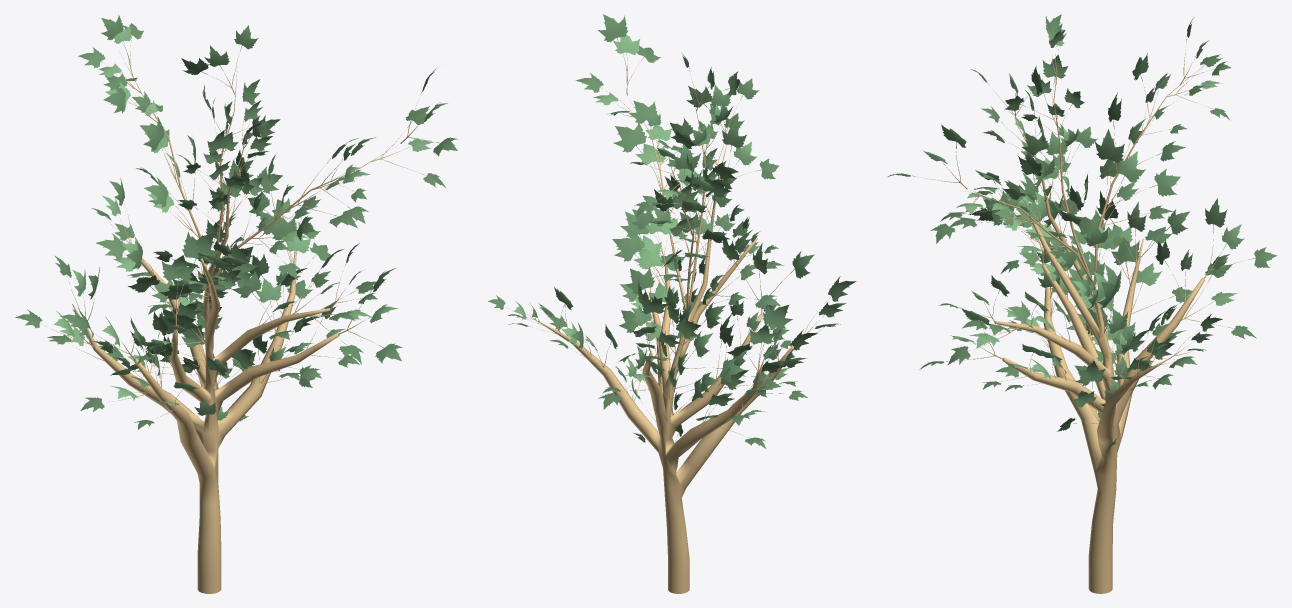
Rendered from tree2.fbx.
3 views of the same model, side by side, from view 1: azimuth 30°, elevation 25°; view 2: azimuth 150°, elevation 25°; view 3: azimuth 270°, elevation 25° (orthographic). The views are drawn at different scales.
Visible parts, largest first — view 1: tree; view 2: tree; view 3: tree.
Boxes of the visible parts, x1,y1,x2,y2 form: tree: [15, 14, 458, 593]; tree: [488, 14, 856, 593]; tree: [886, 14, 1277, 593].
Bounding box in the file's own units: 50.53 × 84.11 × 52.64.
